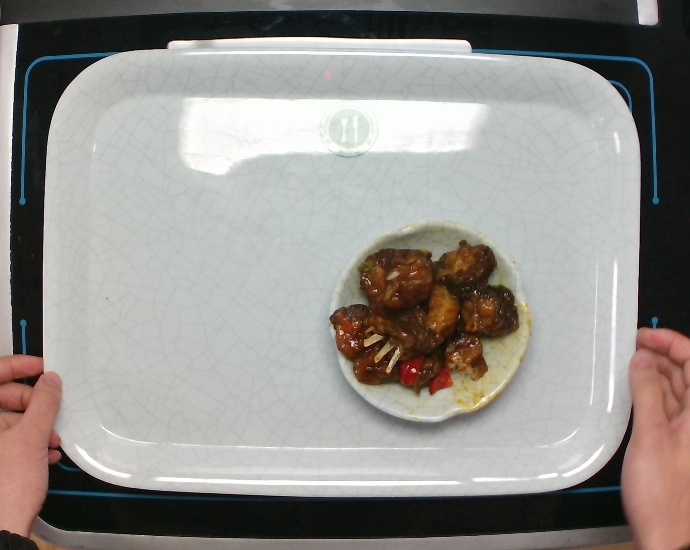JYsf-Ao_Yuan_Wan: (329, 219, 539, 429)
